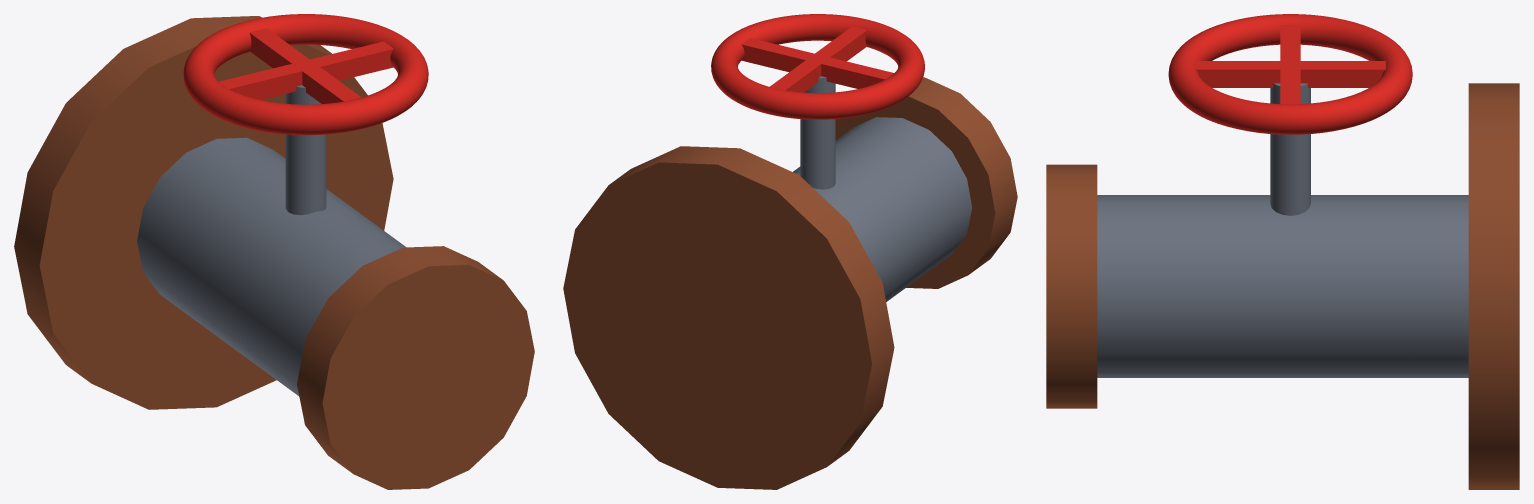
File: pipe.glb
The picture shows the model from 3 angles, left to right: view 1: azimuth 30°, elevation 25°; view 2: azimuth 150°, elevation 25°; view 3: azimuth 270°, elevation 25°; orthographic projection. The views are drawn at different scales.
Parts seen in each view (by area): view 1: Flange, Lip, Pipe2, Rim, Spoke0, Stem, Spoke1; view 2: Flange, Pipe2, Lip, Rim, Spoke0, Stem, Spoke1; view 3: Pipe2, Flange, Rim, Lip, Spoke1, Stem, Spoke0.
Part boxes in pixels (x1=…): Flange: x1=14, y1=16, x2=393, y2=409; Lip: x1=297, y1=246, x2=534, y2=489; Pipe2: x1=137, y1=137, x2=405, y2=396; Rim: x1=183, y1=14, x2=428, y2=135; Spoke0: x1=218, y1=41, x2=393, y2=99; Stem: x1=285, y1=85, x2=326, y2=215; Spoke1: x1=249, y1=28, x2=361, y2=103; Flange: x1=563, y1=146, x2=894, y2=489; Pipe2: x1=793, y1=117, x2=972, y2=301; Lip: x1=835, y1=77, x2=1017, y2=288; Rim: x1=711, y1=14, x2=924, y2=119; Spoke0: x1=741, y1=38, x2=894, y2=88; Stem: x1=800, y1=76, x2=835, y2=189; Spoke1: x1=769, y1=26, x2=867, y2=92; Pipe2: x1=1097, y1=195, x2=1468, y2=377; Flange: x1=1468, y1=83, x2=1519, y2=489; Rim: x1=1168, y1=14, x2=1412, y2=134; Lip: x1=1046, y1=164, x2=1097, y2=408; Spoke1: x1=1195, y1=61, x2=1386, y2=87; Stem: x1=1270, y1=83, x2=1310, y2=215; Spoke0: x1=1280, y1=24, x2=1300, y2=104.
Size of the model in its own units: 0.8 by 0.89 by 0.93.
